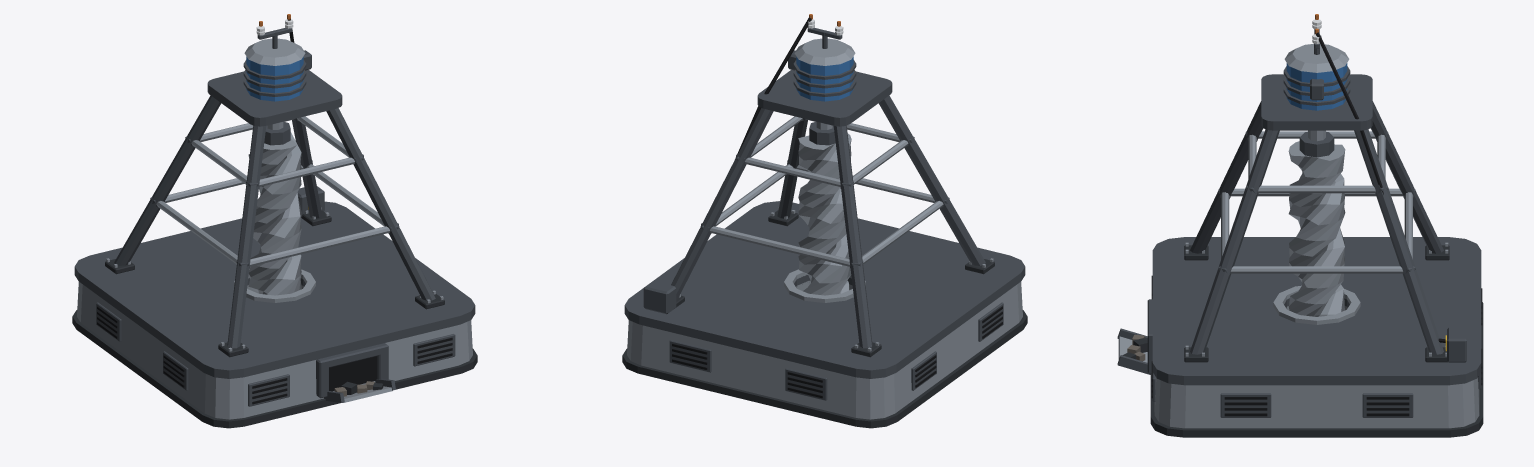
File: foreuse_electrique_t2.glb
The picture shows the model from 3 angles, left to right: view 1: azimuth 30°, elevation 25°; view 2: azimuth 150°, elevation 25°; view 3: azimuth 270°, elevation 25°; orthographic projection. The views are drawn at different scales.
Visible parts, largest first — view 1: socle_dessus.004, pieces_acier_sombre.008, socle.004, foret_corps.006, pieces_acier.008, plateau.004, socle_plinthe.002, pieces_noir.008, moteur.004, moteur_chapeau.002, pieces_fonte.005, sortie_bouche.006 (+1 smaller); view 2: socle_dessus.004, socle.004, pieces_acier_sombre.008, foret_corps.006, pieces_acier.008, socle_plinthe.002, plateau.004, pieces_noir.008, moteur.004, moteur_chapeau.002, boitier.002, pieces_fonte.005 (+1 smaller); view 3: socle_dessus.004, pieces_acier_sombre.008, socle.004, foret_corps.006, pieces_acier.008, plateau.004, socle_plinthe.002, pieces_noir.008, moteur.004, moteur_chapeau.002, pieces_fonte.005, trou_bord.004 (+2 smaller).
Part boxes in pixels (bbox=[...]): socle_dessus.004: bbox=[74, 201, 475, 378]; pieces_acier_sombre.008: bbox=[96, 27, 455, 406]; socle.004: bbox=[77, 281, 472, 419]; foret_corps.006: bbox=[248, 132, 301, 295]; pieces_acier.008: bbox=[106, 116, 443, 402]; plateau.004: bbox=[207, 70, 342, 126]; socle_plinthe.002: bbox=[72, 310, 477, 428]; pieces_noir.008: bbox=[97, 18, 452, 404]; moteur.004: bbox=[246, 56, 303, 101]; moteur_chapeau.002: bbox=[244, 38, 305, 65]; pieces_fonte.005: bbox=[105, 210, 444, 394]; sortie_bouche.006: bbox=[329, 356, 376, 391]; socle_dessus.004: bbox=[624, 201, 1025, 378]; socle.004: bbox=[627, 280, 1022, 419]; pieces_acier_sombre.008: bbox=[669, 27, 1003, 400]; foret_corps.006: bbox=[798, 133, 851, 295]; pieces_acier.008: bbox=[679, 116, 993, 351]; socle_plinthe.002: bbox=[622, 310, 1027, 428]; plateau.004: bbox=[757, 70, 892, 126]; pieces_noir.008: bbox=[672, 17, 1002, 398]; moteur.004: bbox=[796, 56, 853, 101]; moteur_chapeau.002: bbox=[794, 38, 855, 65]; boitier.002: bbox=[643, 281, 676, 314]; pieces_fonte.005: bbox=[676, 210, 994, 357]; socle_dessus.004: bbox=[1152, 237, 1481, 385]; pieces_acier_sombre.008: bbox=[1117, 29, 1481, 417]; socle.004: bbox=[1154, 306, 1479, 428]; foret_corps.006: bbox=[1288, 141, 1345, 316]; pieces_acier.008: bbox=[1118, 131, 1448, 362]; plateau.004: bbox=[1261, 74, 1372, 130]; socle_plinthe.002: bbox=[1150, 302, 1483, 437]; pieces_noir.008: bbox=[1151, 32, 1482, 416]; moteur.004: bbox=[1286, 63, 1347, 110]; moteur_chapeau.002: bbox=[1284, 44, 1349, 72]; pieces_fonte.005: bbox=[1122, 245, 1449, 362]; trou_bord.004: bbox=[1273, 285, 1360, 324].
Bounding box in the file's own units: 2 × 1.88 × 2.
